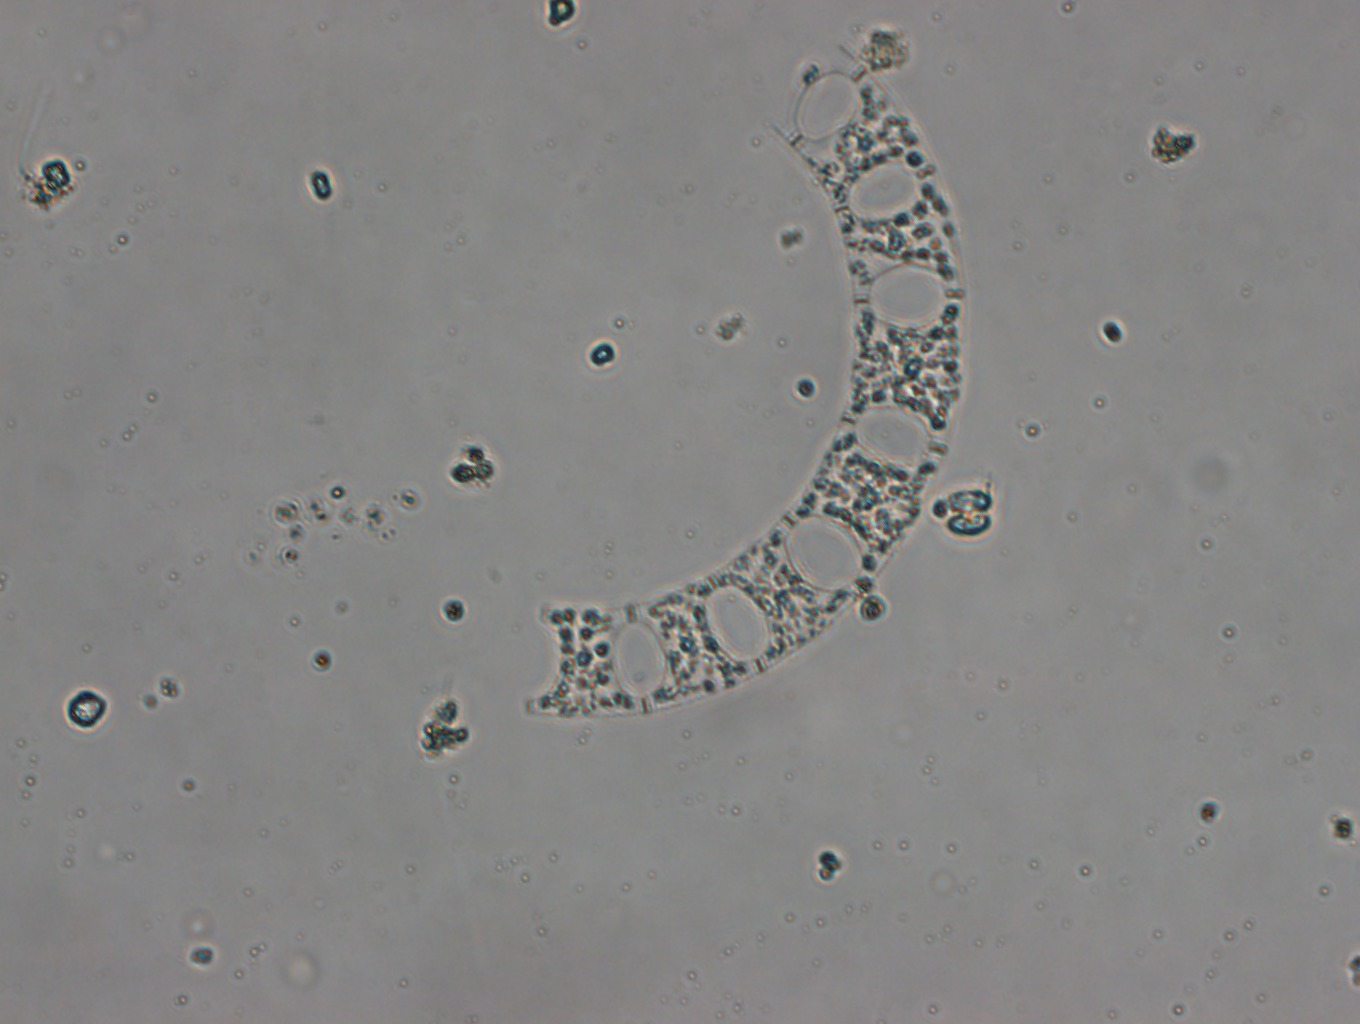eucampia: (528, 35, 967, 719)
